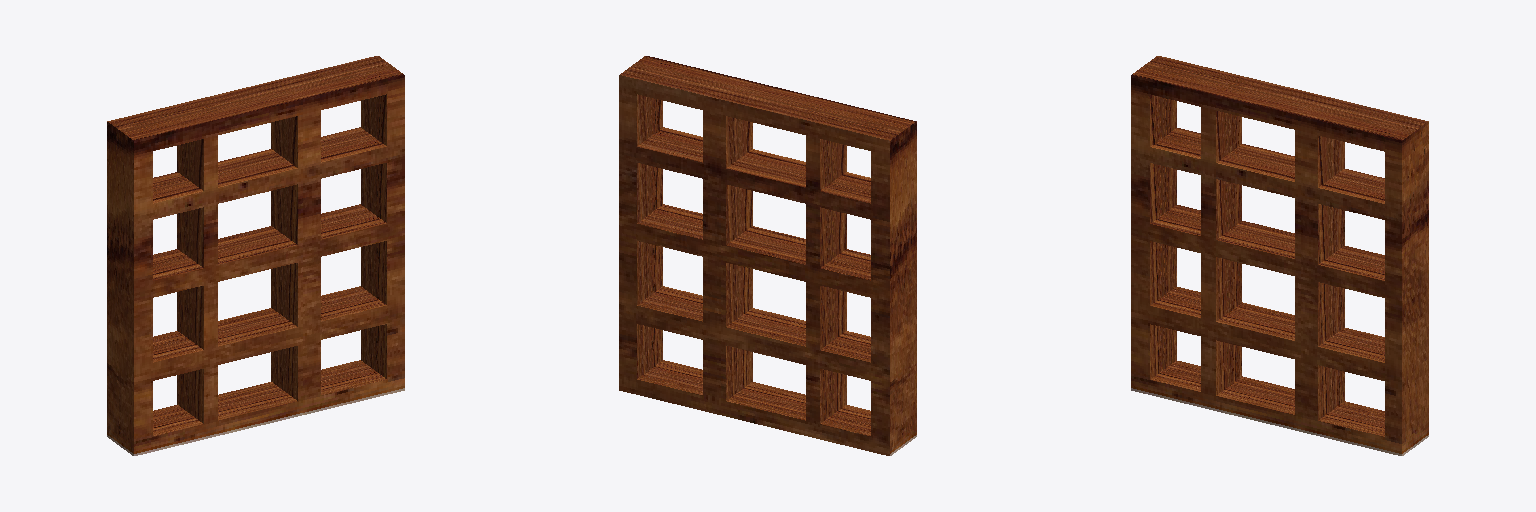
3 renders of one model, left to right at view 1: azimuth 30°, elevation 25°; view 2: azimuth 150°, elevation 25°; view 3: azimuth 330°, elevation 25°, orthographic.
Parts seen in each view (by area): view 1: pCube1; view 2: pCube1; view 3: pCube1.
Part boxes in pixels (left/top/right/bottom): pCube1: left=107, top=56, right=404, bottom=455; pCube1: left=619, top=56, right=916, bottom=455; pCube1: left=1131, top=56, right=1428, bottom=455.
Size of the model in its own units: 3.26 by 3.64 by 0.554.
1 materials, 1 textured.